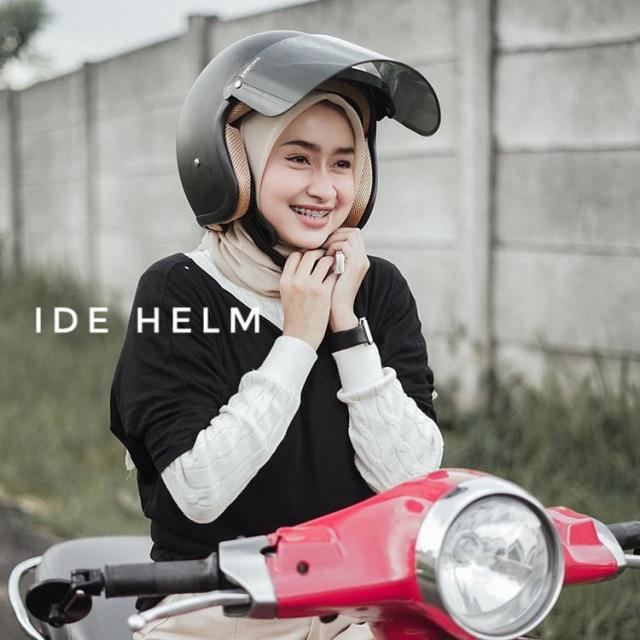Helm: (171, 29, 446, 253)
